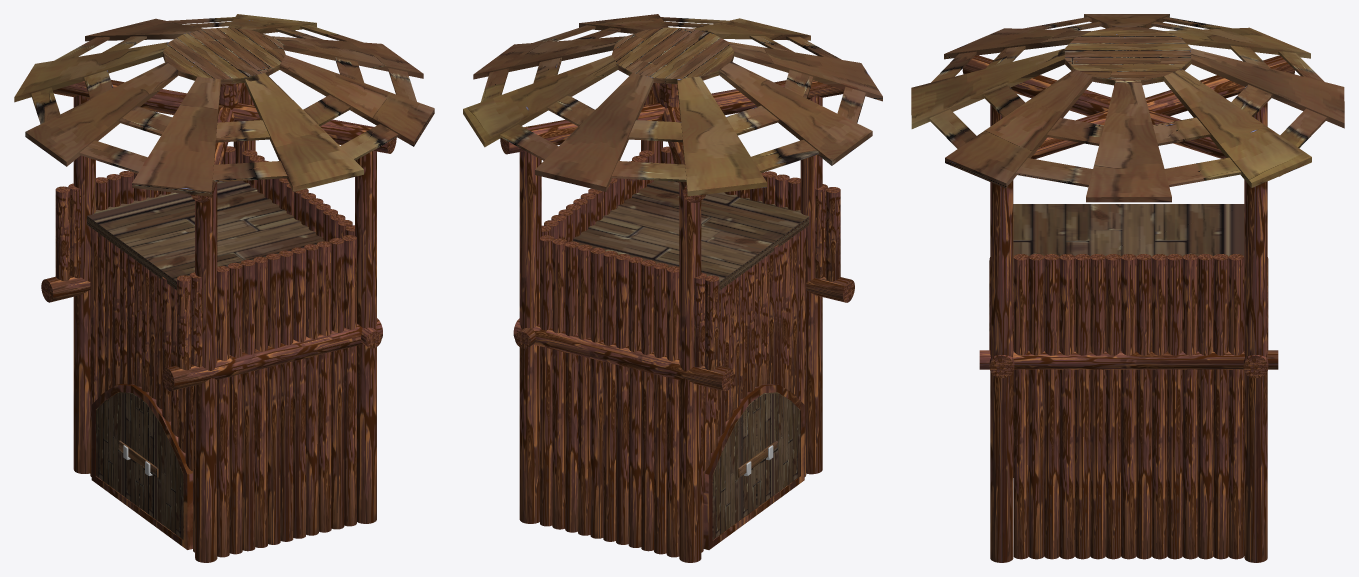
Rendered from tower entrance.fbx.
The picture shows the model from 3 angles, left to right: view 1: azimuth 30°, elevation 25°; view 2: azimuth 150°, elevation 25°; view 3: azimuth 270°, elevation 25°; orthographic projection. The views are drawn at different scales.
Visible parts, largest first — view 1: Cylinder_5, Cube_1, Cube_2_2, Cylinder_0_2, Cylinder_0_4, Cylinder_0_1, Cylinder, Cylinder_5_4, Cylinder_8_2, Cylinder_1_4, Cylinder_9_2, Cylinder_2_6 (+27 smaller); view 2: Cylinder_5, Cube_1, Cube_2_2, Cylinder_0_3, Cylinder_0_1, Cylinder_0_2, Cylinder_1, Cylinder_4_7, Cylinder_0_8, Cylinder_7_4, Cylinder_2_9, Cylinder_1_7 (+27 smaller); view 3: Cylinder_5, Cube_1, Cylinder_0_3, Cylinder_0_4, Cylinder_5_5, Cylinder_1_5, Cylinder_4_5, Cylinder_3_8, Cylinder_6_4, Cylinder_9_3, Cylinder_3_7, Cylinder_0_7 (+12 smaller).
Boxes of the visible parts, x1=… form: Cylinder_5: x1=14, y1=14, x2=434, y2=196; Cube_1: x1=87, y1=180, x2=324, y2=290; Cube_2_2: x1=96, y1=392, x2=183, y2=539; Cylinder_0_2: x1=195, y1=182, x2=217, y2=562; Cylinder_0_4: x1=355, y1=151, x2=376, y2=523; Cylinder_0_1: x1=73, y1=86, x2=95, y2=473; Cylinder: x1=162, y1=318, x2=382, y2=391; Cylinder_5_4: x1=278, y1=250, x2=293, y2=541; Cylinder_8_2: x1=240, y1=259, x2=255, y2=551; Cylinder_1_4: x1=329, y1=238, x2=344, y2=529; Cylinder_9_2: x1=228, y1=262, x2=242, y2=554; Cylinder_2_6: x1=316, y1=241, x2=331, y2=532; Cylinder_5: x1=463, y1=14, x2=882, y2=196; Cube_1: x1=571, y1=180, x2=809, y2=290; Cube_2_2: x1=712, y1=392, x2=800, y2=539; Cylinder_0_3: x1=519, y1=151, x2=541, y2=523; Cylinder_0_1: x1=679, y1=182, x2=701, y2=562; Cylinder_0_2: x1=800, y1=87, x2=822, y2=474; Cylinder_1: x1=513, y1=318, x2=733, y2=391; Cylinder_4_7: x1=590, y1=247, x2=605, y2=538; Cylinder_0_8: x1=666, y1=266, x2=679, y2=557; Cylinder_7_4: x1=628, y1=257, x2=643, y2=547; Cylinder_2_9: x1=565, y1=241, x2=579, y2=532; Cylinder_1_7: x1=552, y1=238, x2=567, y2=529; Cylinder_5: x1=911, y1=14, x2=1344, y2=202; Cube_1: x1=1013, y1=204, x2=1244, y2=291; Cylinder_0_3: x1=1244, y1=180, x2=1267, y2=562; Cylinder_0_4: x1=990, y1=180, x2=1013, y2=562; Cylinder_5_5: x1=1228, y1=254, x2=1244, y2=559; Cylinder_1_5: x1=1167, y1=254, x2=1182, y2=559; Cylinder_4_5: x1=1213, y1=254, x2=1228, y2=559; Cylinder_3_8: x1=1044, y1=254, x2=1059, y2=559; Cylinder_6_4: x1=1090, y1=254, x2=1105, y2=559; Cylinder_9_3: x1=1136, y1=254, x2=1151, y2=559; Cylinder_3_7: x1=1198, y1=254, x2=1213, y2=559; Cylinder_0_7: x1=1152, y1=254, x2=1167, y2=559.
Bounding box in the file's own units: 1117 × 1316 × 1117.
Materials: 5 (4 with a texture image).
